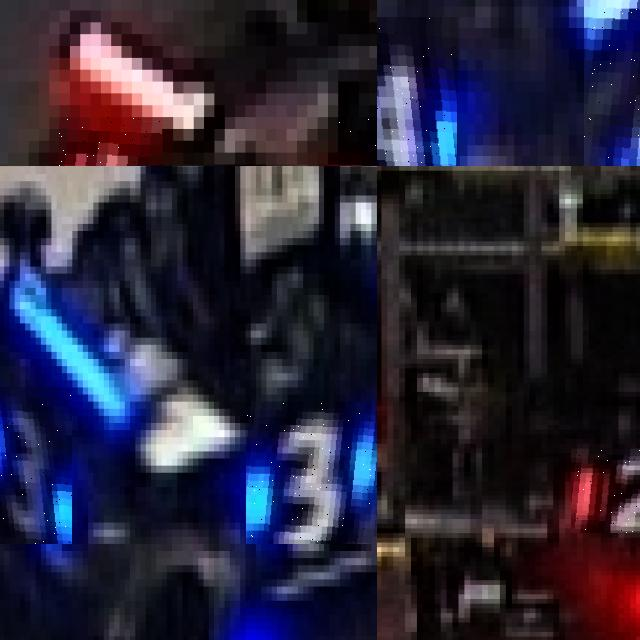B3: (245, 402, 377, 544), (0, 387, 72, 543)
B4: (377, 17, 459, 166), (584, 0, 640, 166)
R2: (571, 448, 640, 533)
R5: (59, 117, 162, 166)
